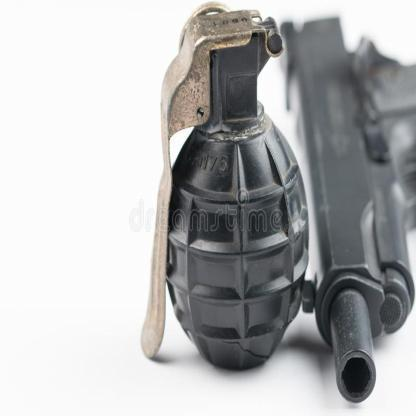Grenade: (141, 2, 310, 370)
Pistol: (277, 14, 416, 404)
